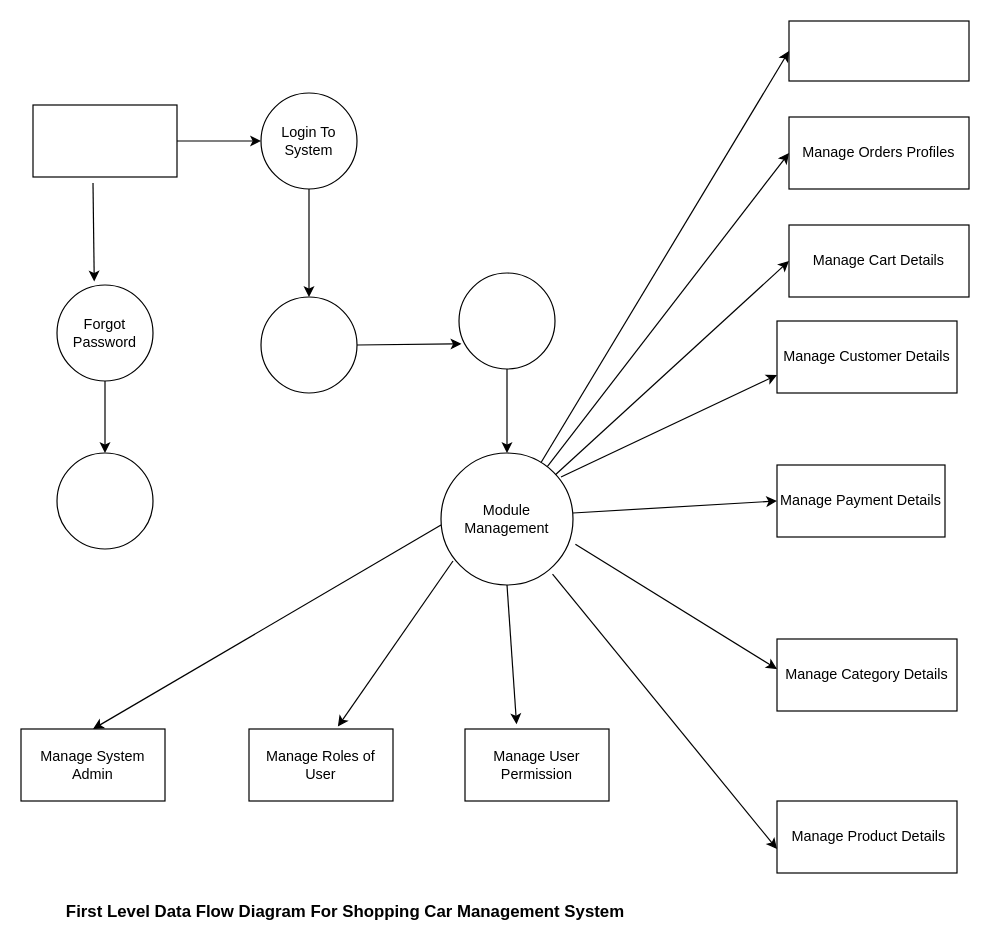
This 990x944 diagram has some shape labels left out. Here are the shapes that lost their labels. From the top down, the box of each, then its label:
(788, 20, 969, 81): Manage Login Report
(32, 104, 177, 177): Admininstrator
(458, 272, 555, 369): Check Access Roles
(260, 296, 357, 393): Check Credentials
(56, 452, 153, 549): Email Sent To User
